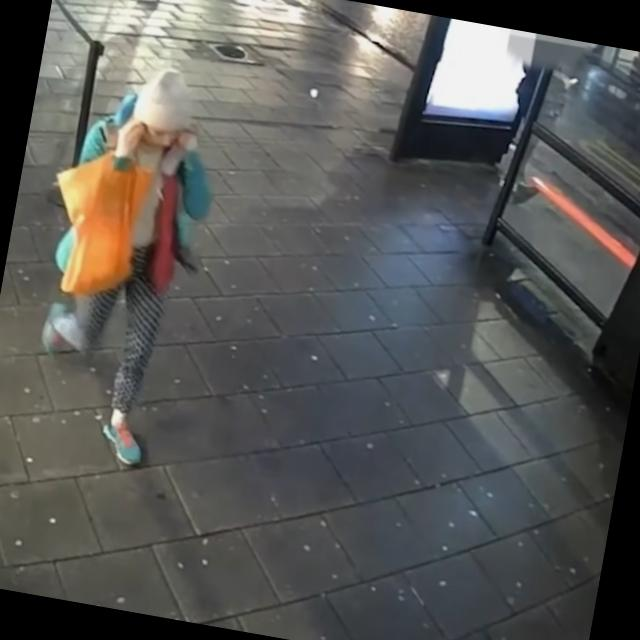person: (10, 52, 237, 467)
